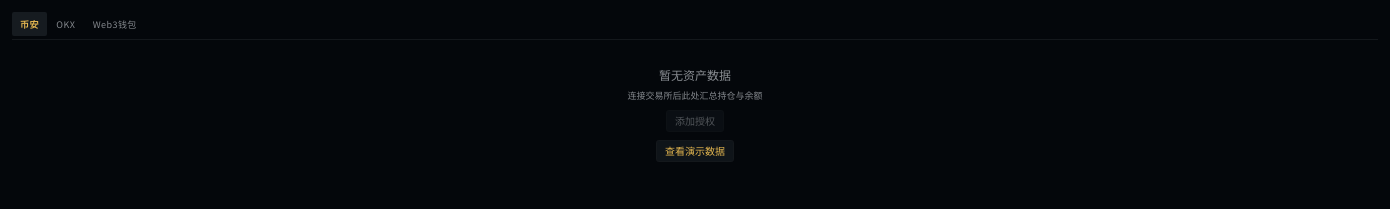
it: AssetOverview(资产聚合壳) › 切到 OKX → 显示 okx 资产,不显示 binance
Click the button "查看演示数据" at point(695, 151), box x1=656 y1=140 x2=734 y2=162
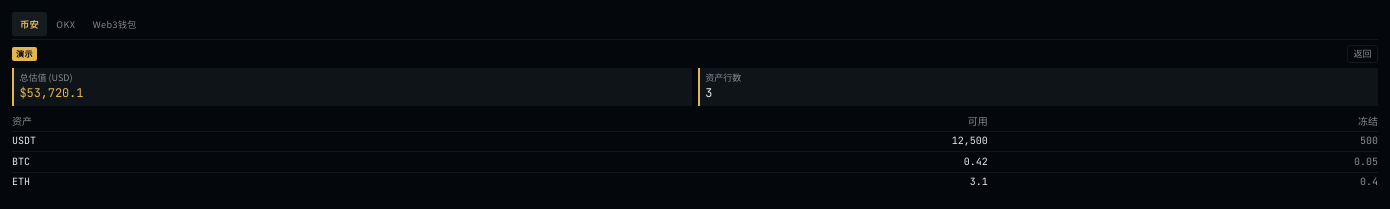
Click the button "OKX" at point(66, 24), box x1=48 y1=12 x2=83 y2=36
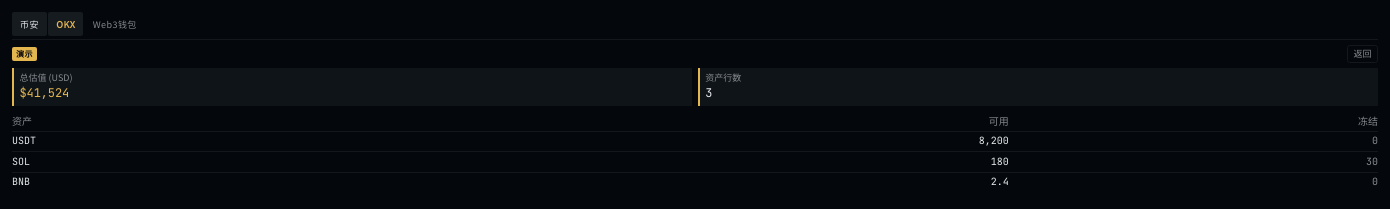
Check: the text "USDT" is shown, box x1=12 y1=131 x2=455 y2=152
Check: the text "SOL" is shown, box x1=12 y1=152 x2=455 y2=172
Check: the text "BNB" is shown, box x1=12 y1=172 x2=455 y2=192
